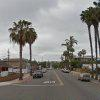Palm tree: (8, 10, 40, 62)
